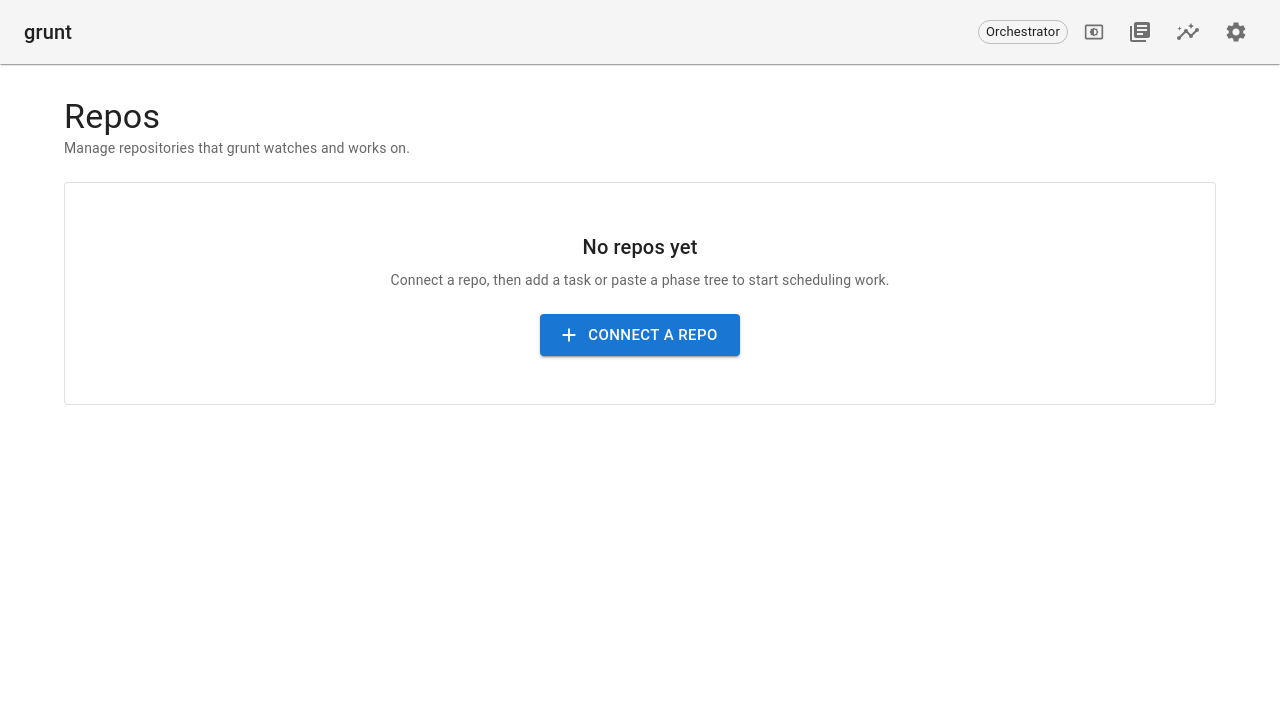
it: UsageDashboard › surfaces an error banner when /api/usage/weekly fails so the user knows the dashboard isn't just blank
Click the button with test id "usage-button". click: (1188, 32)
box: [1168,12,1208,52]
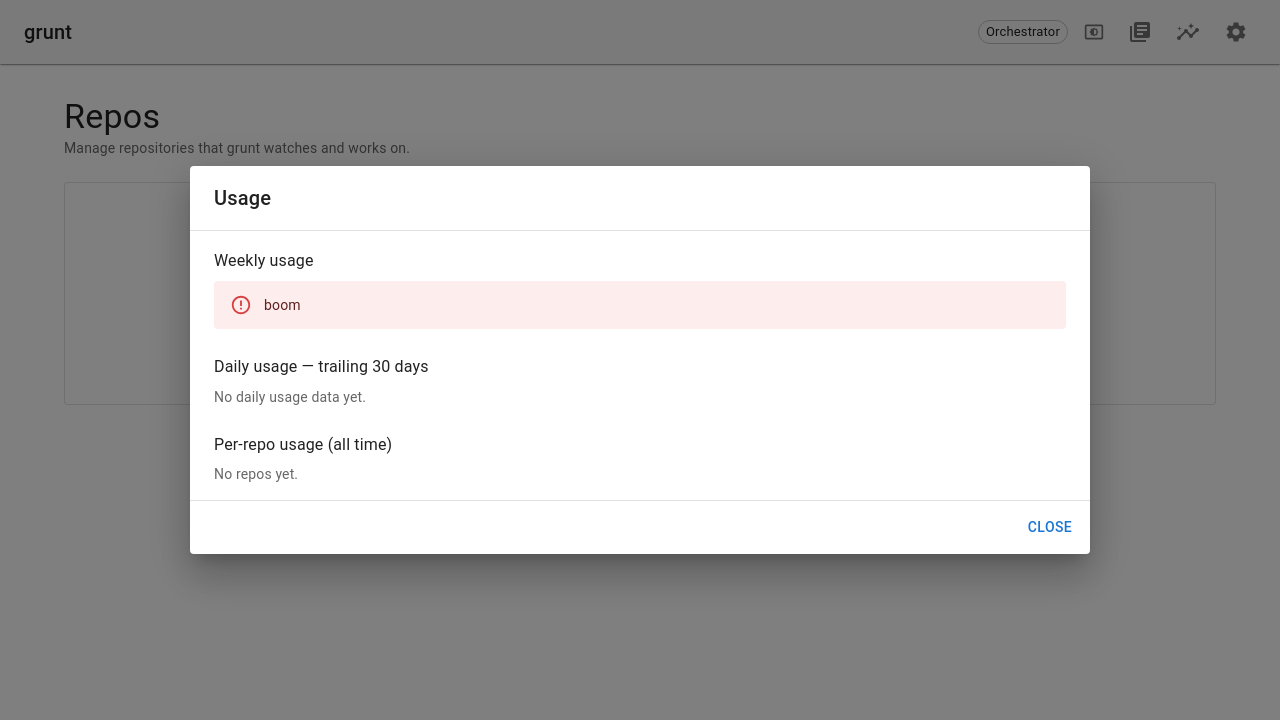
Now the message "boom" is shown, box [214,281,1066,329]
